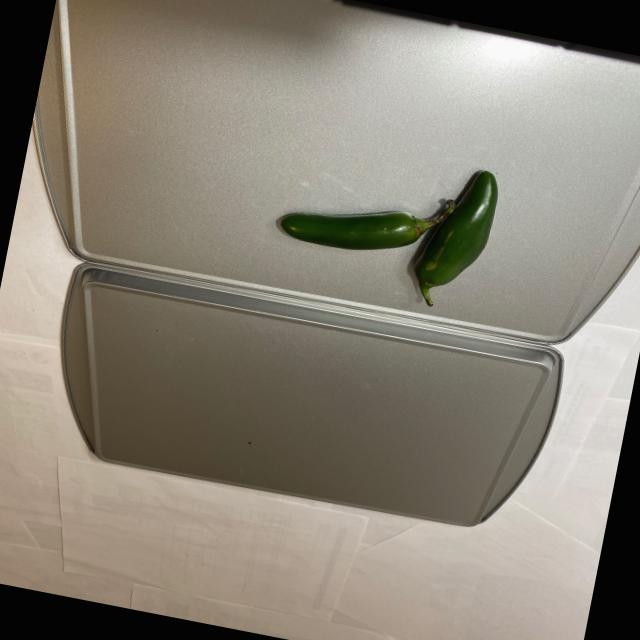chilli: (266, 134, 499, 316)
